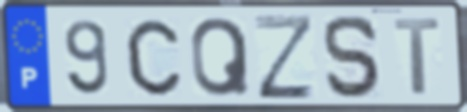9: (62, 18, 111, 98)
C: (123, 16, 184, 98)
Q: (189, 15, 253, 100)
S: (321, 12, 386, 100)
T: (391, 16, 443, 97)
Z: (251, 12, 317, 102)
